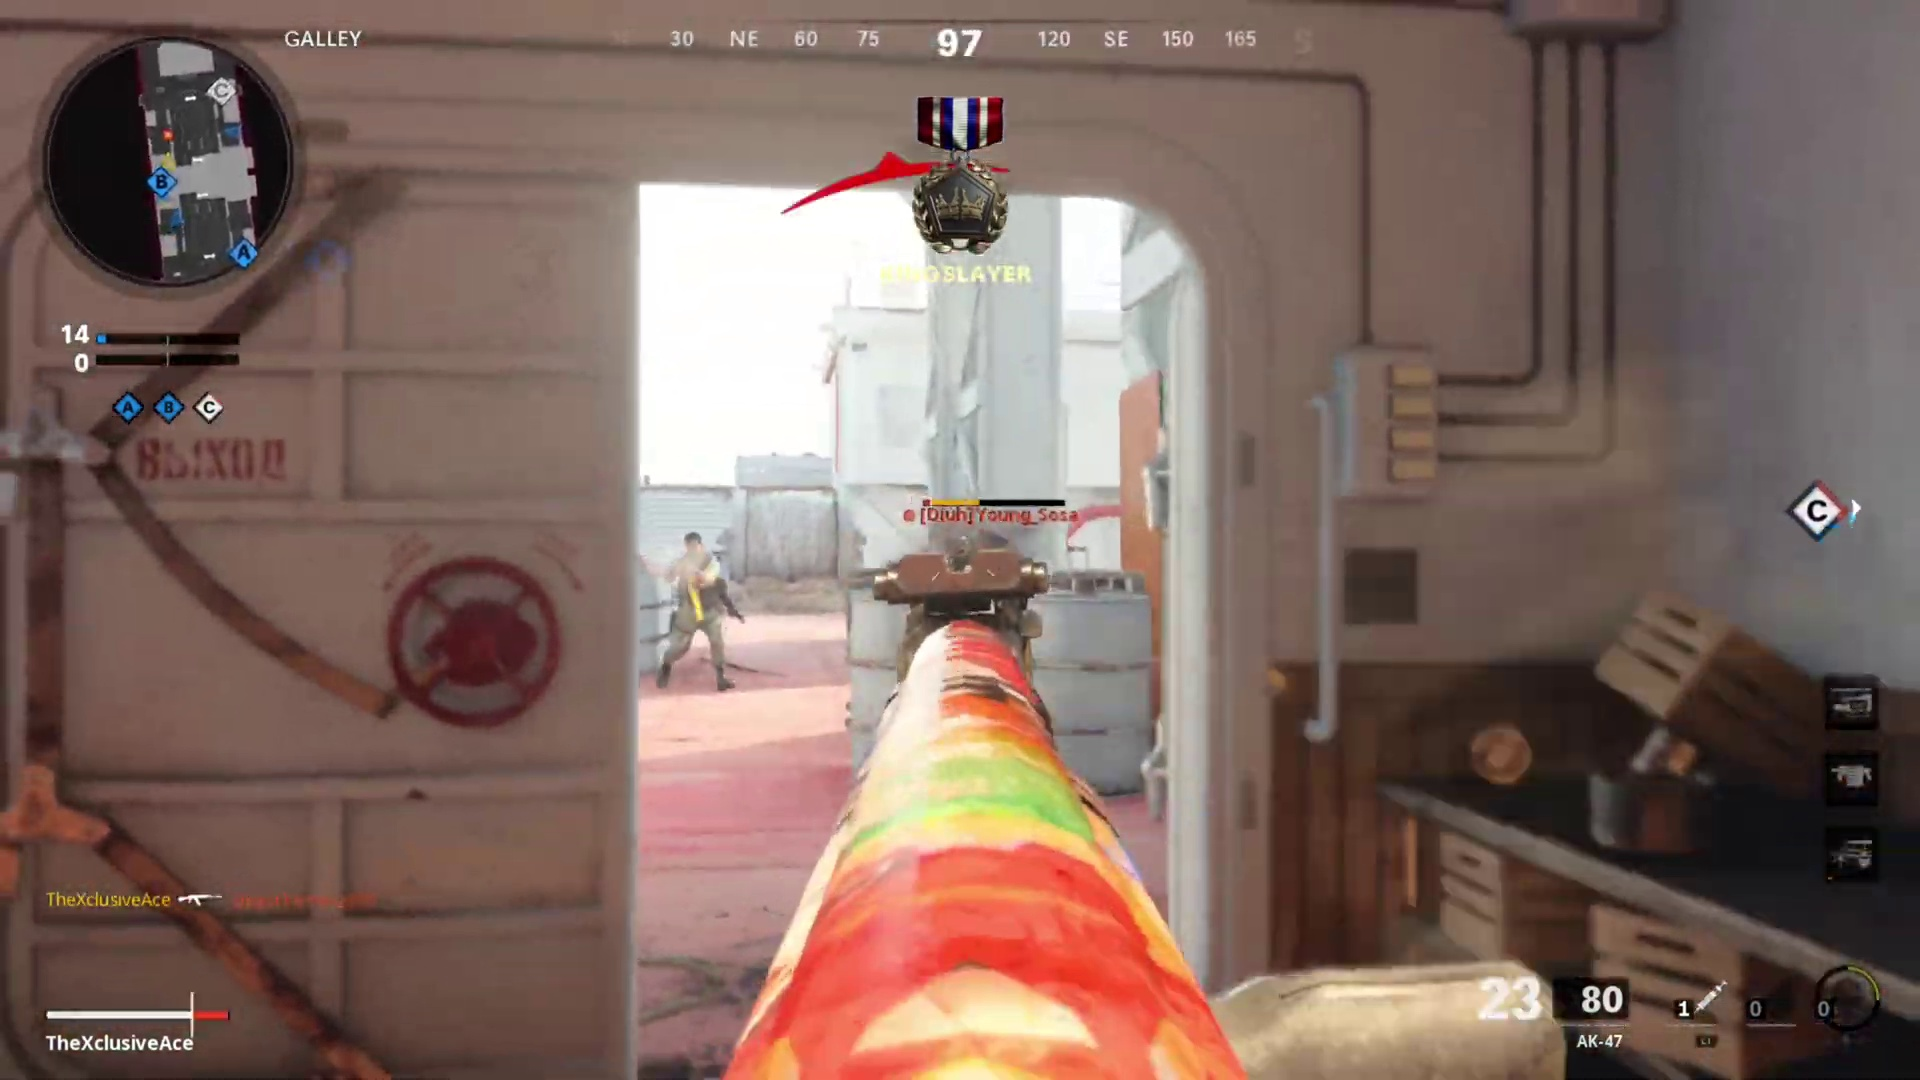head: (682, 527, 710, 560)
person: (650, 531, 719, 689), (682, 531, 748, 690)
